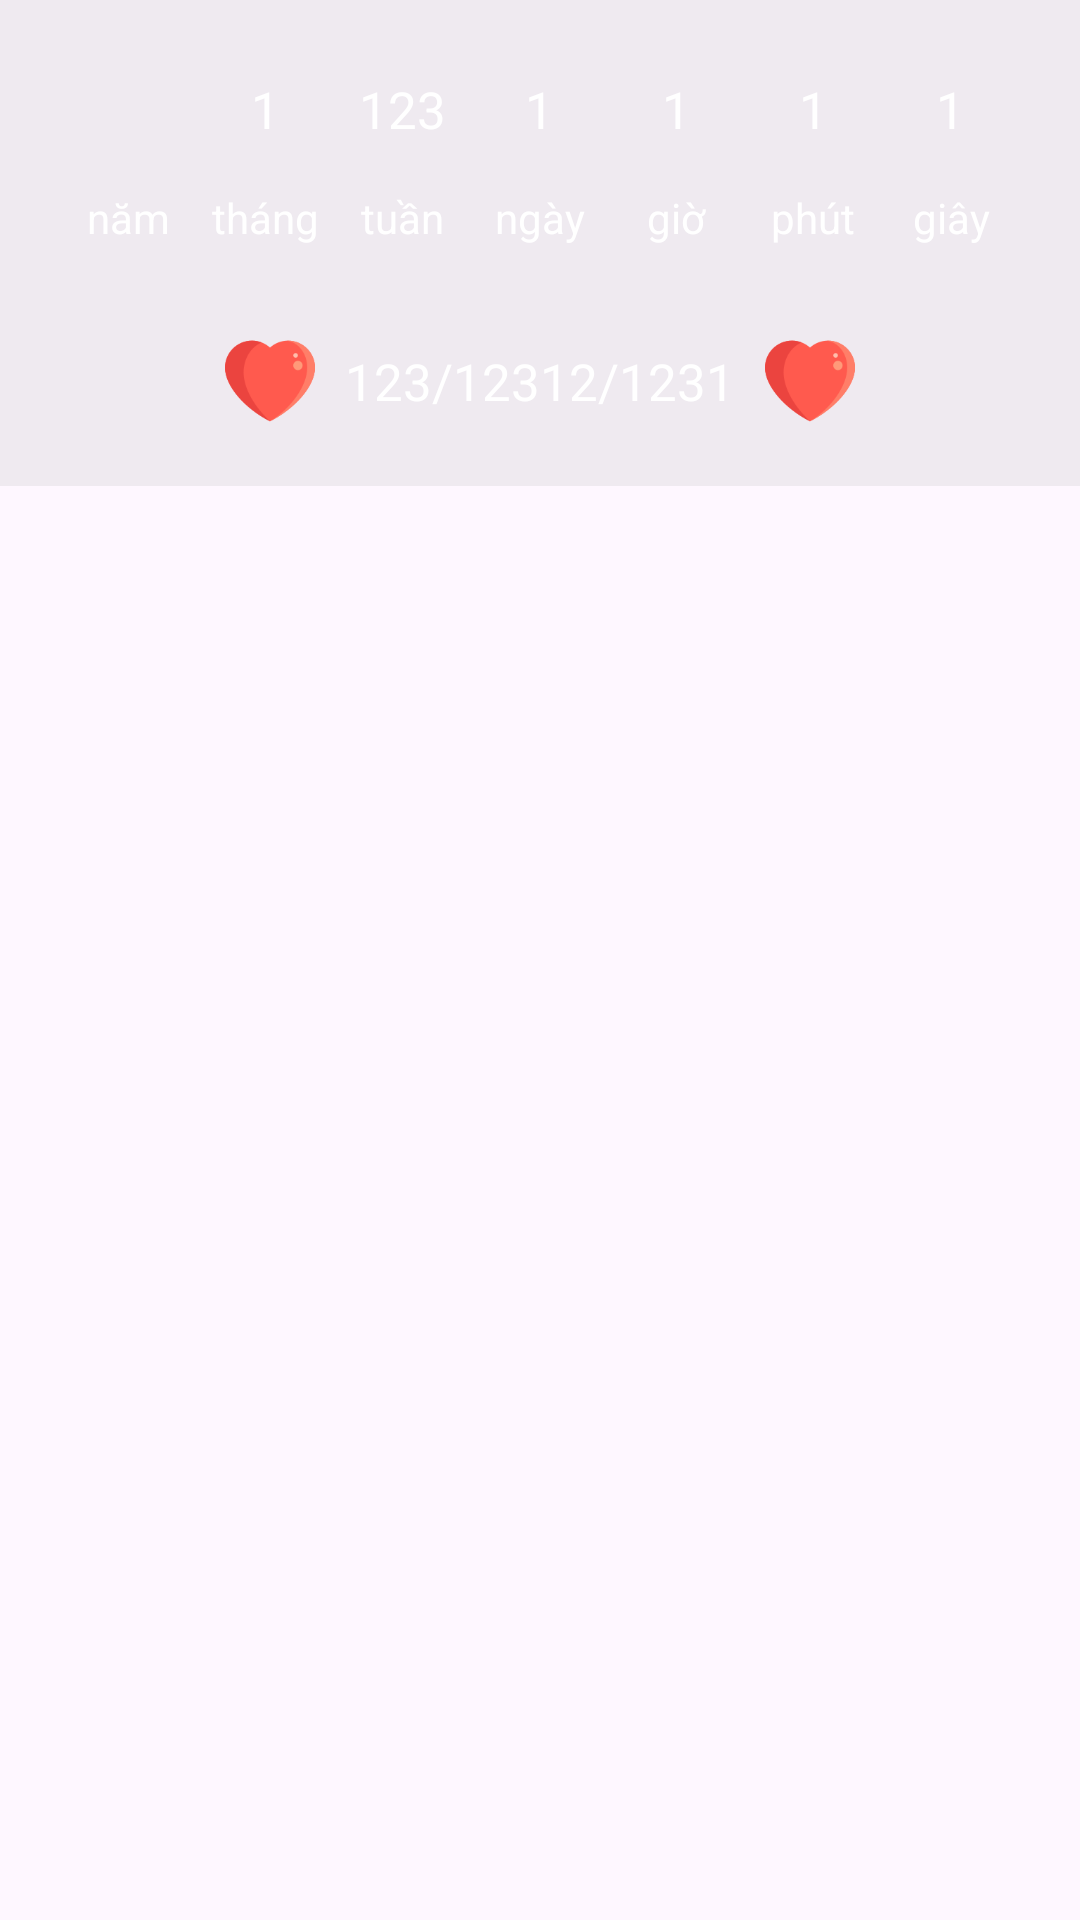

Point at icon controls on the screen. Image size 1080 x 1920, points as point (x, y).
heart: point (270, 381), point (810, 381)
